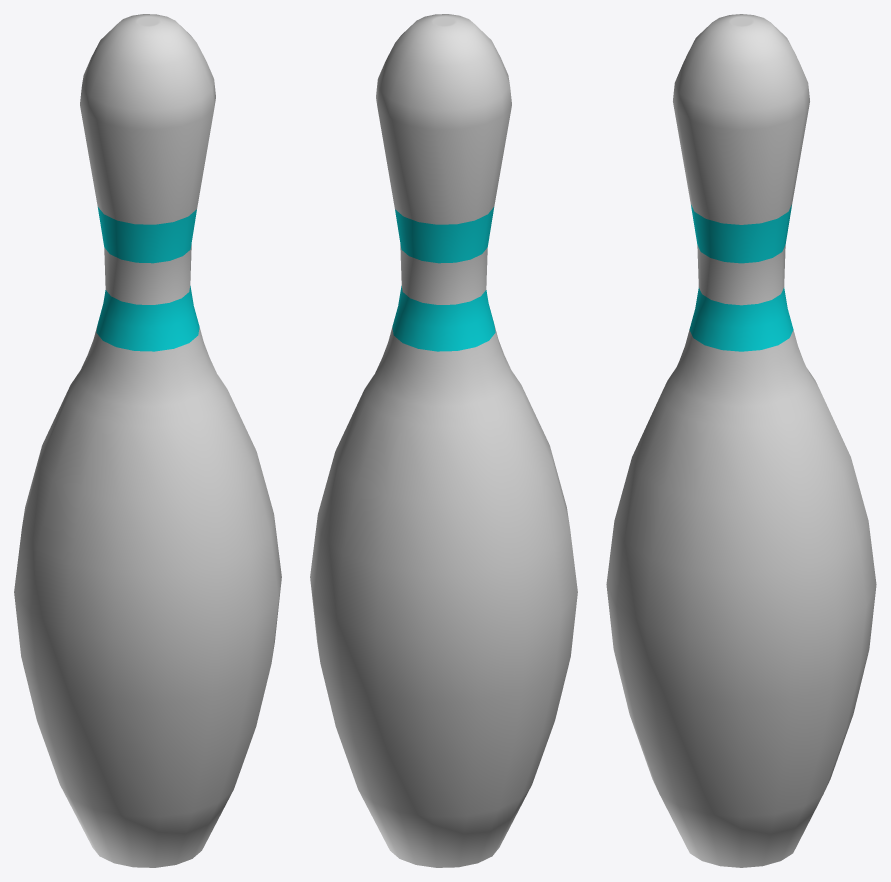
The model's file is Bowling_Pin.fbx.
3 views of the same model, side by side, from view 1: azimuth 30°, elevation 25°; view 2: azimuth 150°, elevation 25°; view 3: azimuth 270°, elevation 25° (orthographic).
Visible parts, largest first — view 1: Circle; view 2: Circle; view 3: Circle.
Part boxes in pixels (box(x1,y1,x2,y2)): Circle: box(14, 14, 281, 867); Circle: box(310, 14, 577, 867); Circle: box(606, 14, 876, 867).
Size of the model in its own units: 39.53 by 133 by 39.53.
